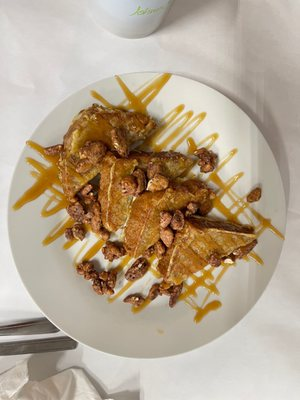pizza: (85, 0, 175, 39)
